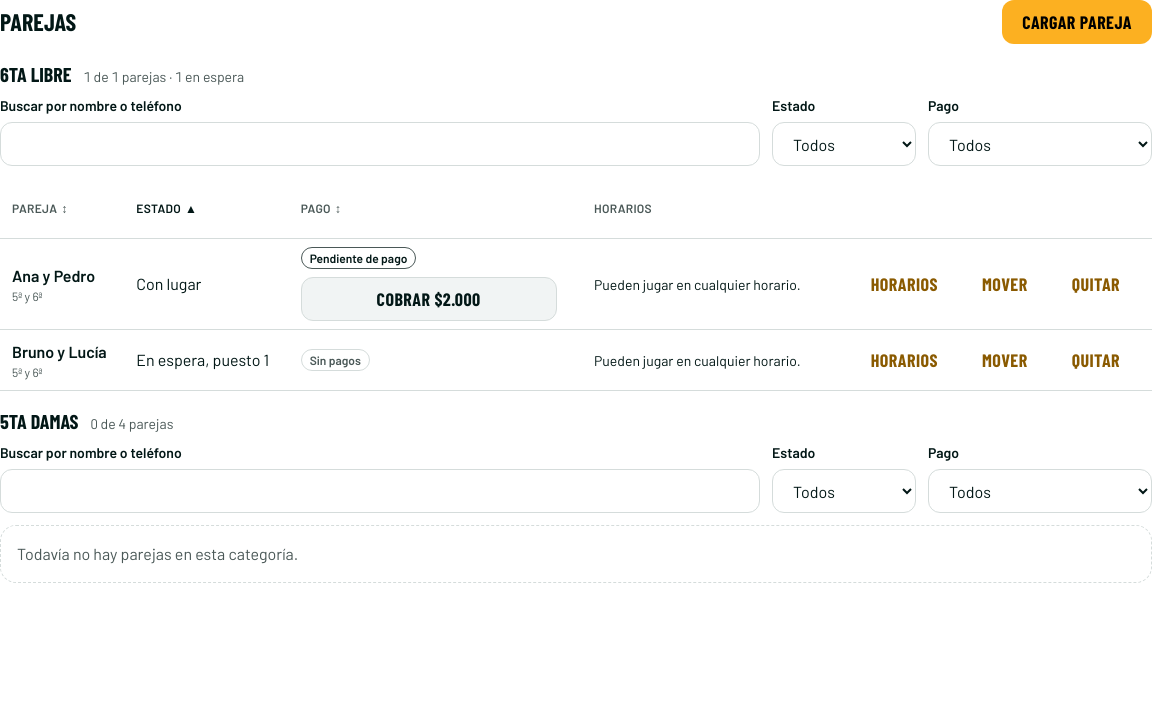
Test case: PairsBoard › asks before taking a pair out
The width and height of the screenshot is (1152, 720).
Click the button "Quitar" in the row of "Bruno y Lucía". click: (1096, 360)
box: [1052,338,1140,382]
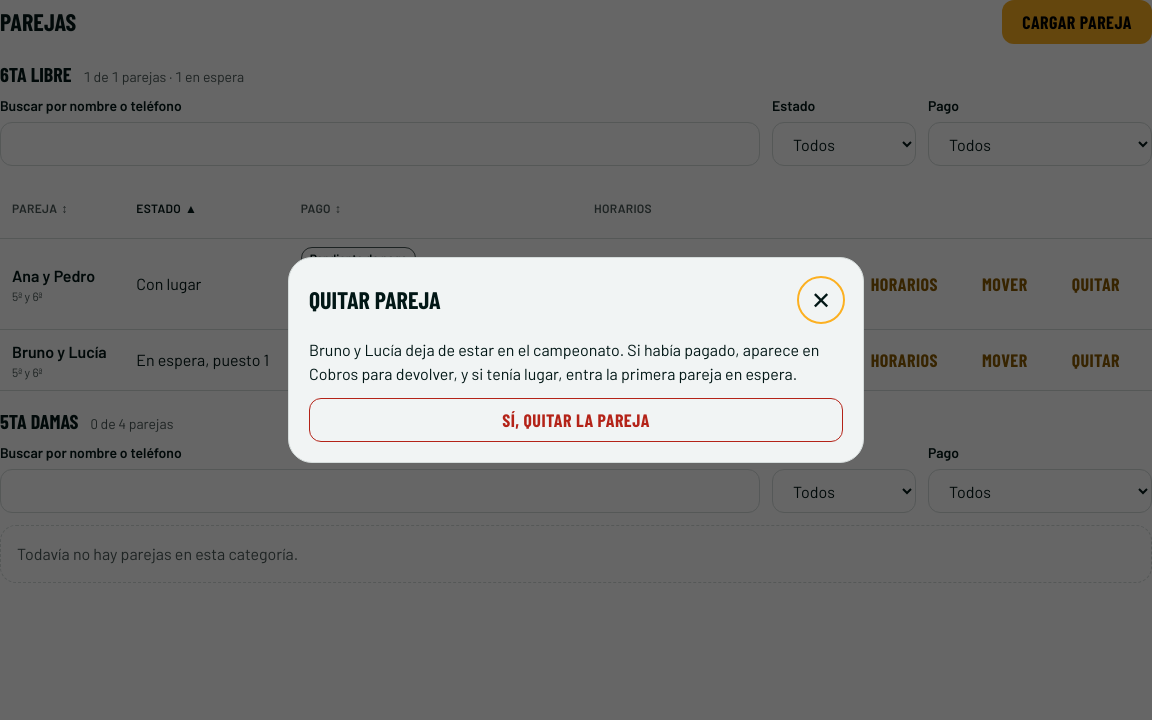
Click the button "Sí, quitar la pareja". click: (576, 420)
box: [309,398,843,442]
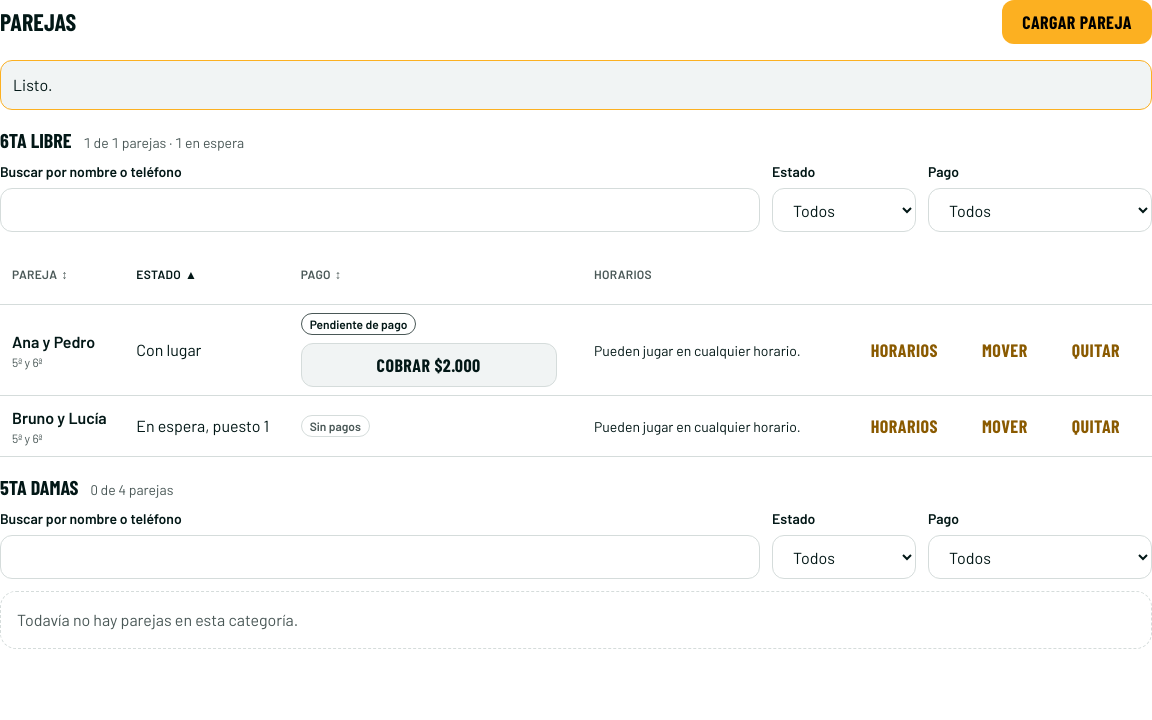
Expected: the message reads "Listo.", [13,75,52,94]
